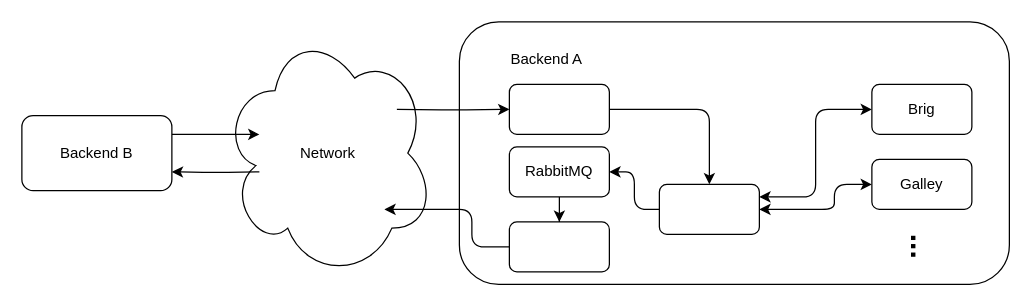
This 1031x306 diagram has some shape labels left out. The centre of each missing label's shape, as x and y in pixels:
"Federator" goes at [708,208].
"Ingress" goes at [558,108].
"Notification Pusher" goes at [558,246].
